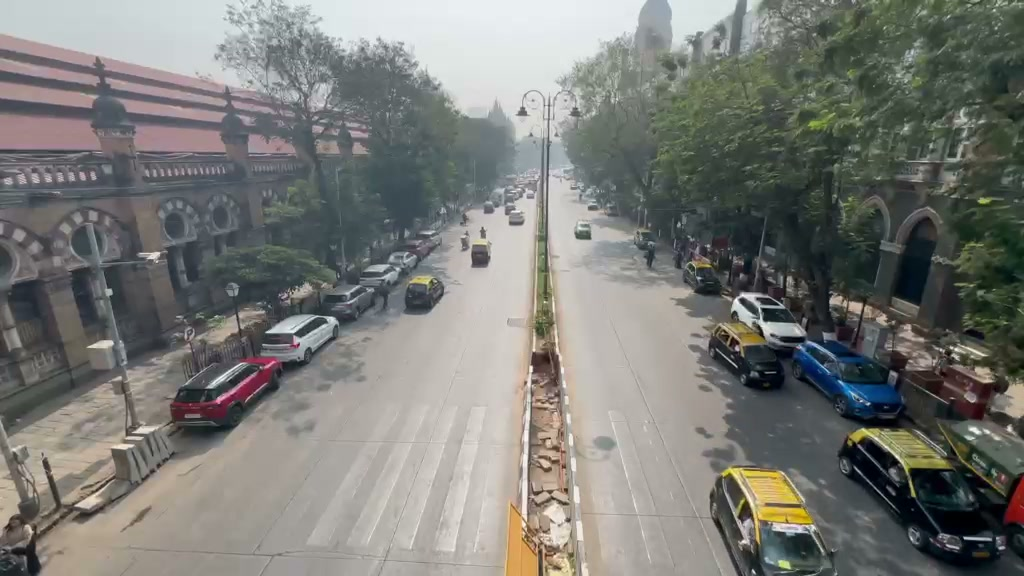car: (836, 424, 1004, 564), (708, 464, 837, 575), (792, 338, 906, 424), (168, 355, 283, 428), (937, 418, 1024, 504), (707, 321, 785, 390), (729, 292, 808, 350), (258, 313, 340, 367), (318, 282, 377, 322), (1003, 473, 1024, 556), (405, 272, 446, 311), (357, 263, 401, 296), (690, 268, 723, 295), (386, 251, 419, 271), (471, 241, 491, 267), (574, 221, 592, 240), (506, 208, 525, 225), (484, 200, 499, 213)
pedestrian: (1, 515, 42, 575)
